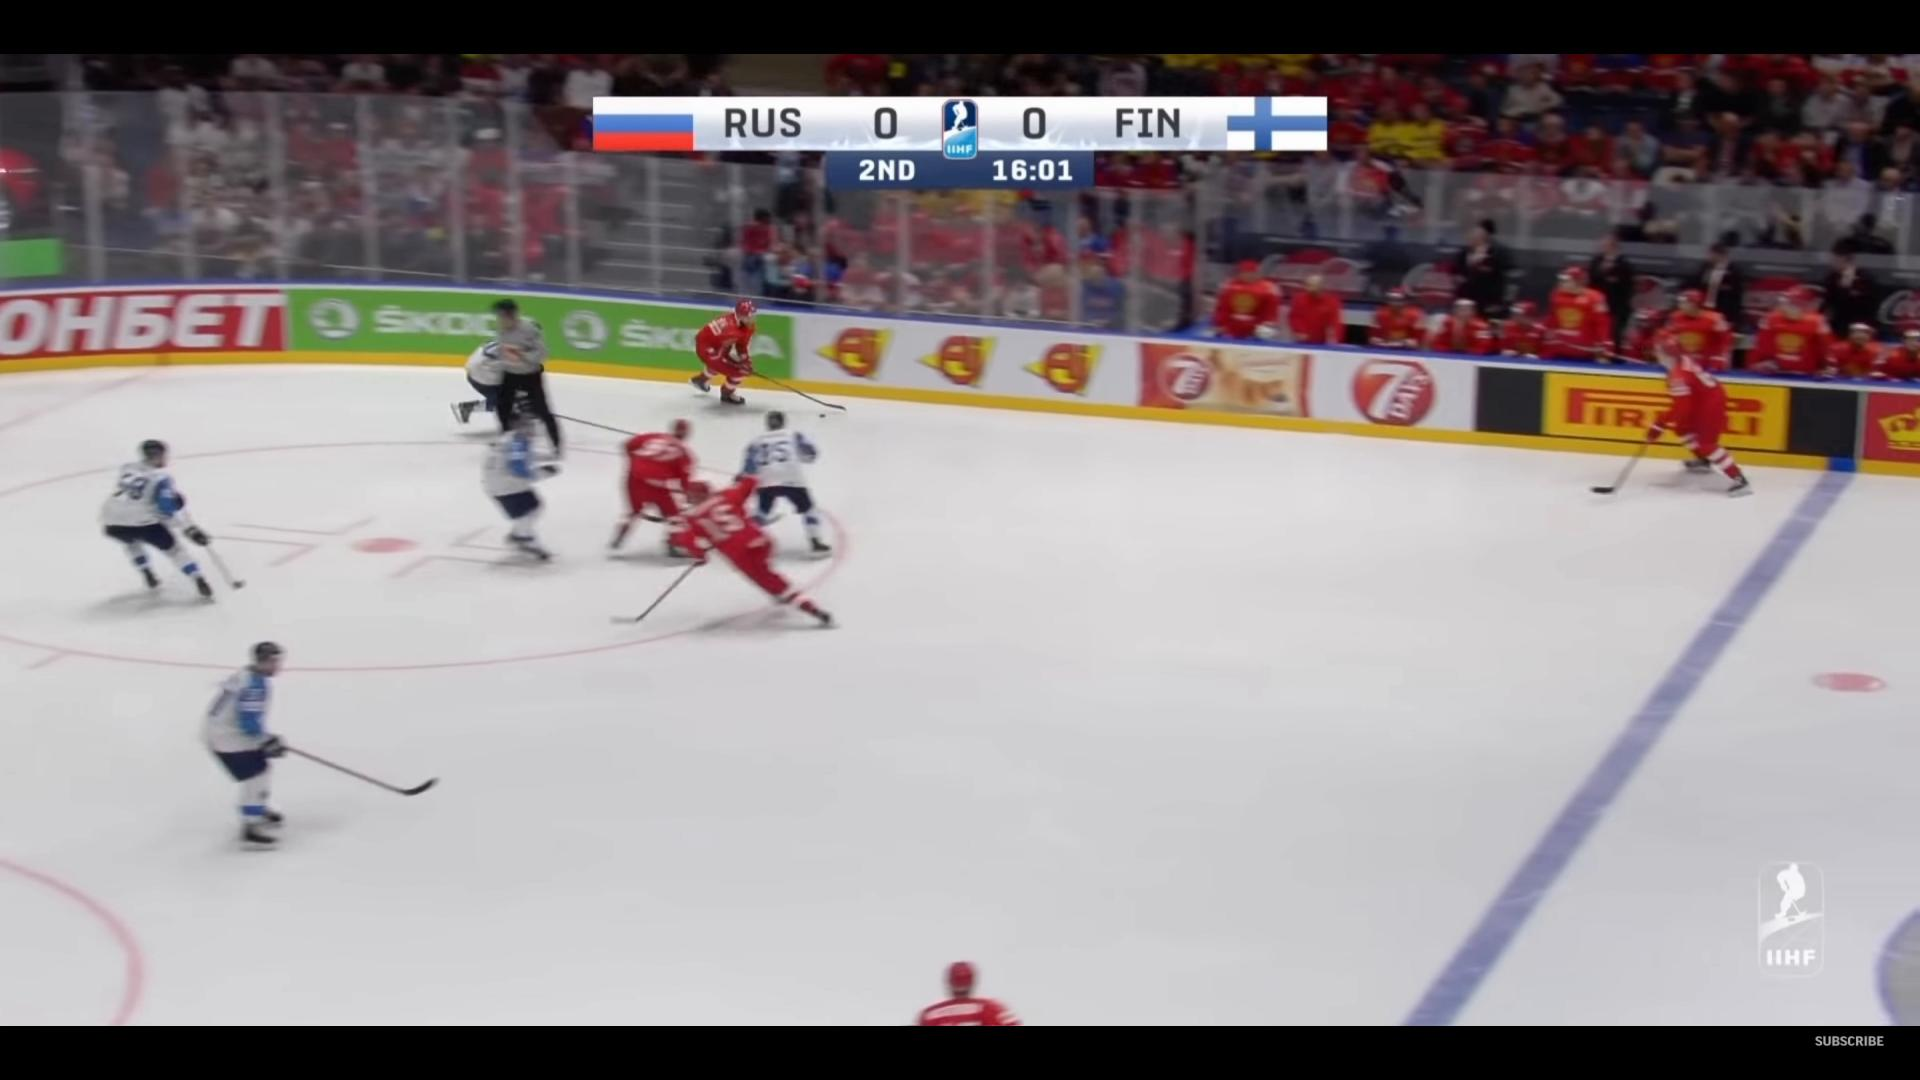puck: (818, 412, 826, 418)
